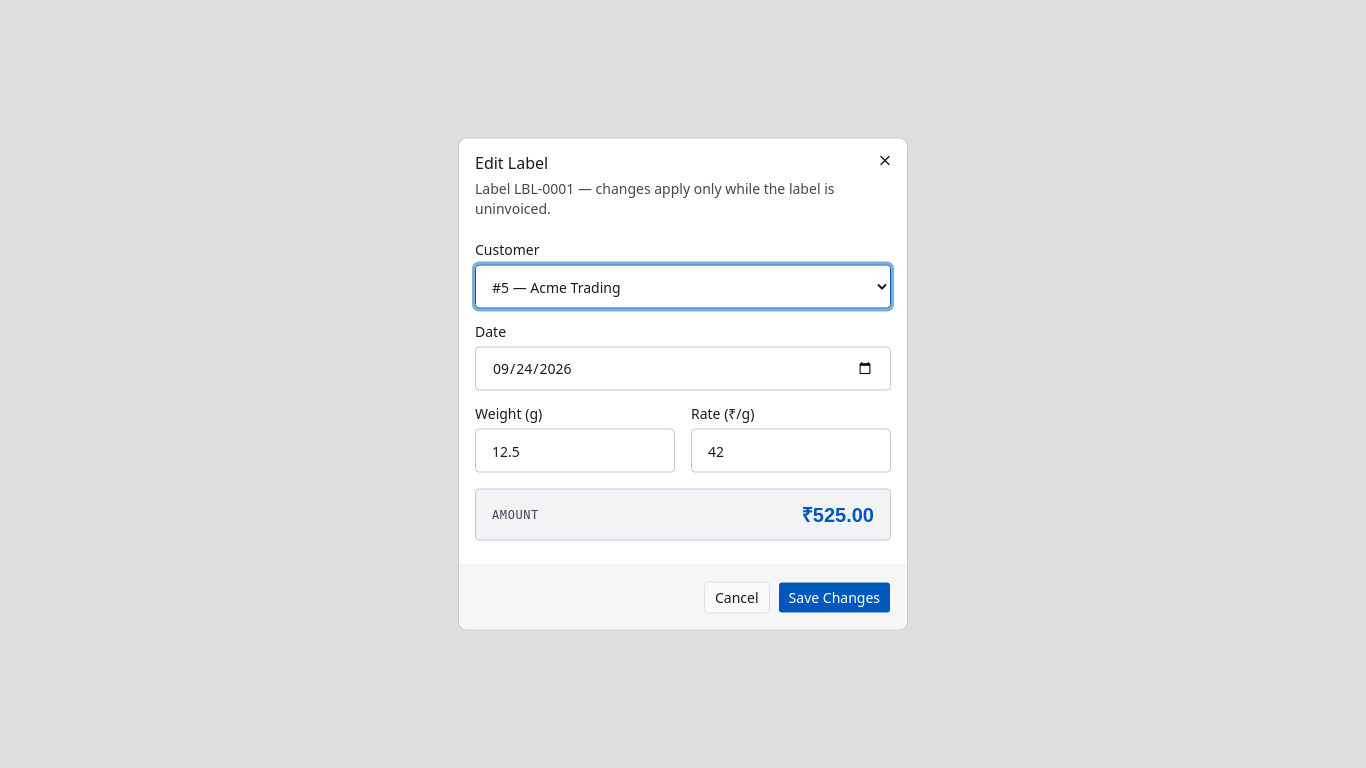
Test: LabelEditDialog › requires a date
This screenshot has width=1366, height=768.
Clear the date field labelled "Date": coordinates (683, 368) [475,346,891,390]
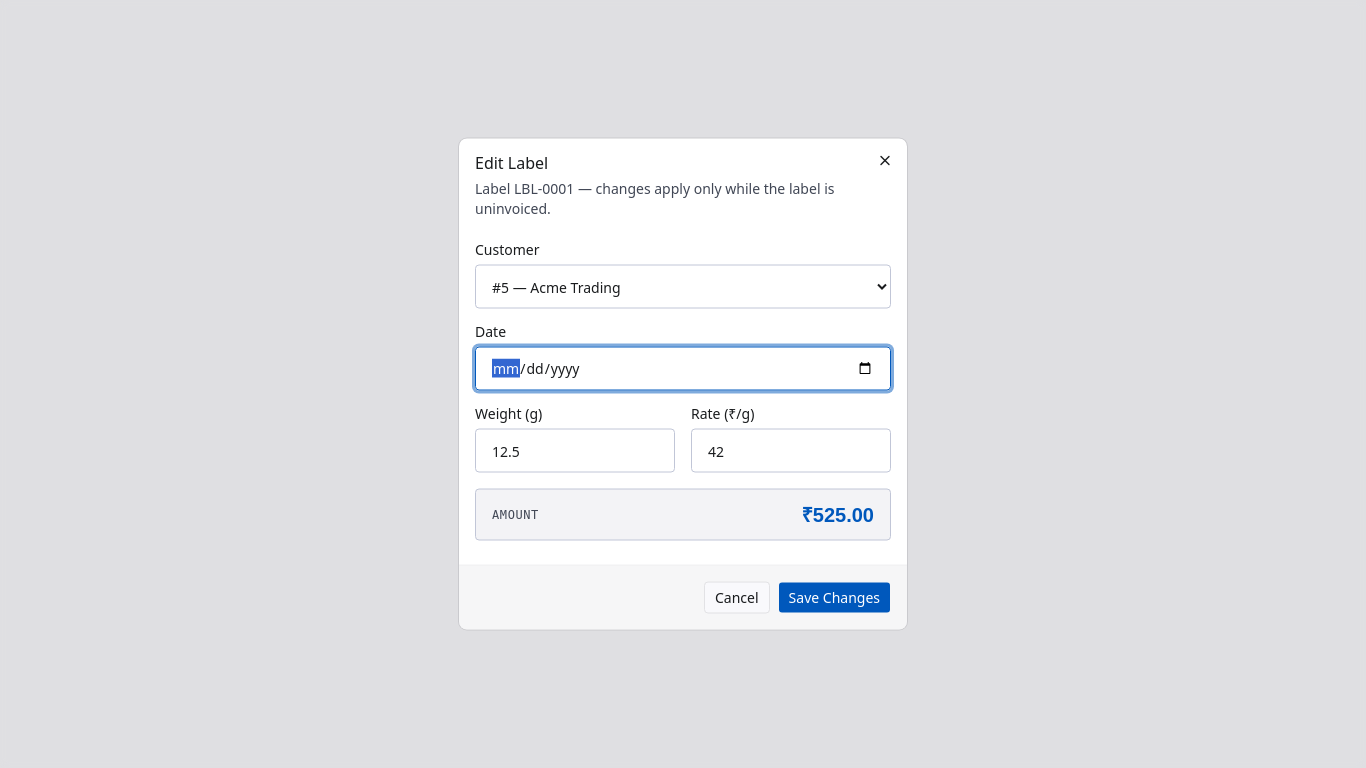
Click the button "Save Changes": coordinates (834, 598) [778,582,891,614]
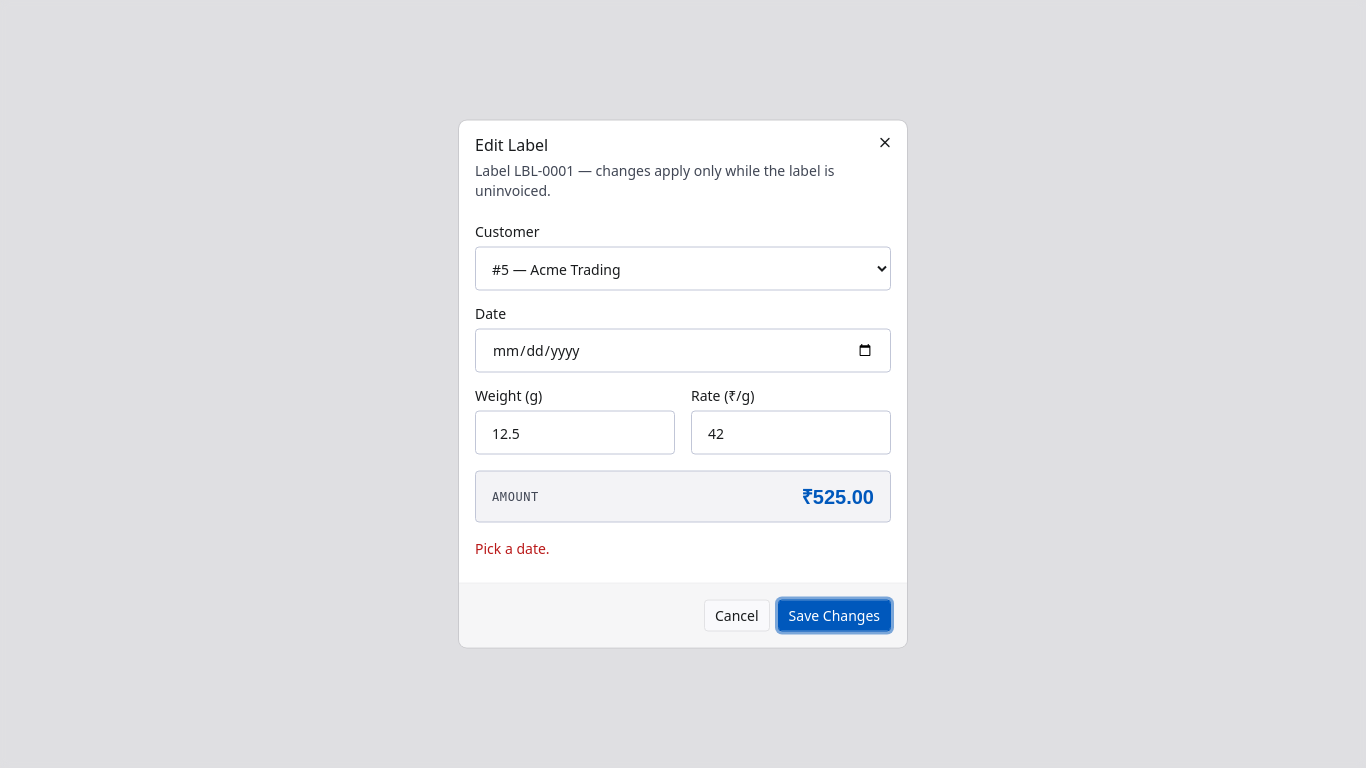
expect the text "Pick a date." is shown: met, box [475,538,550,558]
